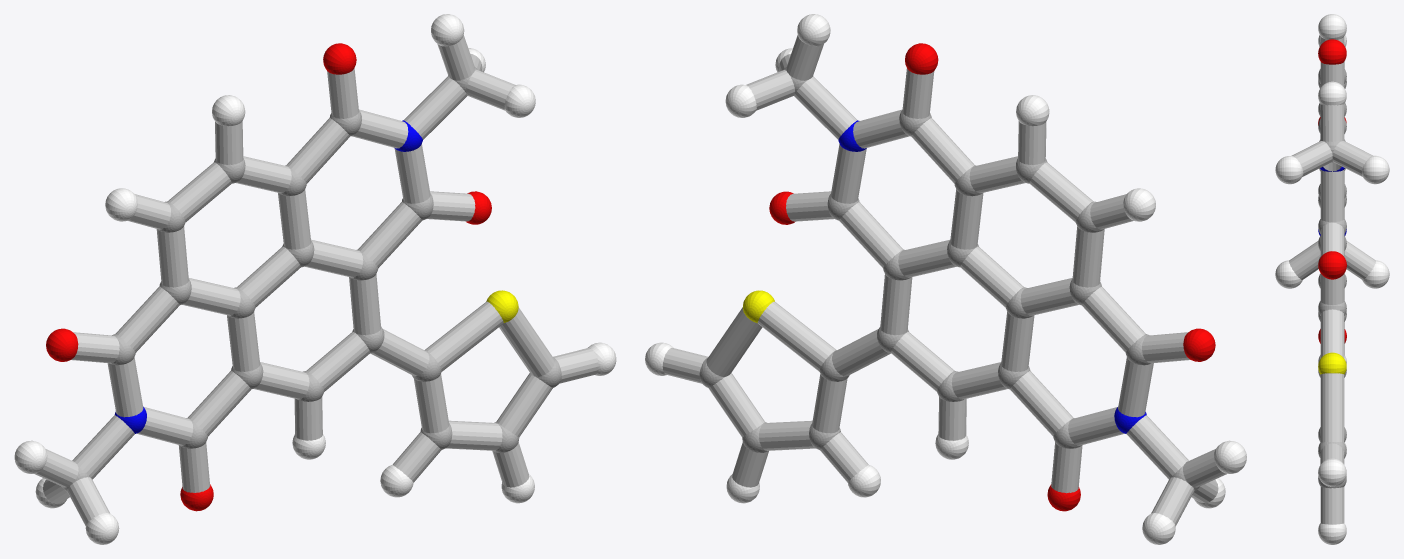
Rendered from Dimethyl_Naphthalene_Dicarboximide_Phi_0_Theta_180_Thiophene.glb.
The picture shows the model from 3 angles, left to right: view 1: azimuth 30°, elevation 25°; view 2: azimuth 150°, elevation 25°; view 3: azimuth 270°, elevation 25°; orthographic projection. The views are drawn at different scales.
Visible parts, largest first — view 1: grp14119, grp7241, grp1, grp12309, grp11585; view 2: grp14119, grp7241, grp1, grp12309, grp11585; view 3: grp14119, grp7241, grp1, grp12309, grp13757.
Part boxes in pixels (x1,y1,x2,y2): grp14119: (34, 35, 598, 526); grp7241: (14, 14, 616, 544); grp1: (62, 67, 561, 491); grp12309: (46, 43, 491, 511); grp11585: (114, 120, 422, 433); grp14119: (662, 35, 1226, 526); grp7241: (645, 14, 1246, 544); grp1: (699, 67, 1199, 491); grp12309: (769, 43, 1215, 511); grp11585: (838, 120, 1146, 433); grp14119: (1289, 36, 1375, 524); grp7241: (1275, 14, 1389, 544); grp1: (1318, 69, 1346, 488); grp12309: (1318, 39, 1346, 343); grp13757: (1318, 352, 1346, 374).
Bounding box in the file's own units: 12.35 × 9.95 × 2.39.
